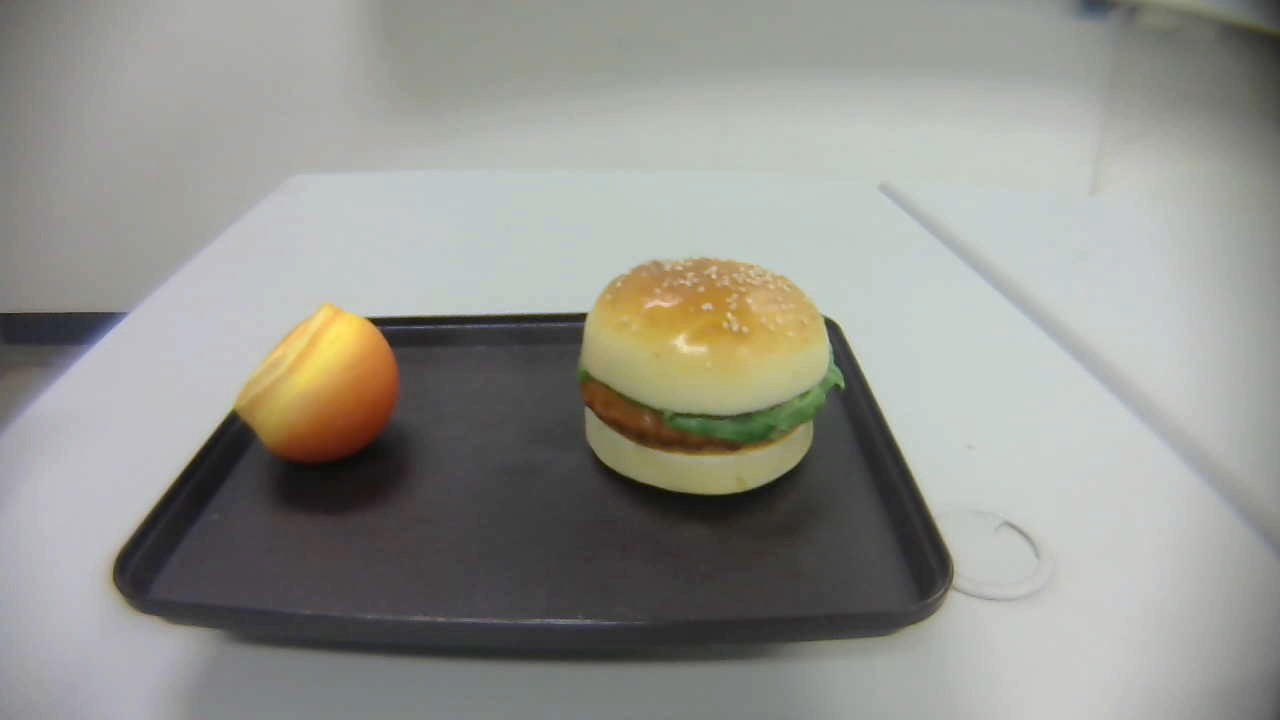bun: (234, 306, 401, 464)
hamburger: (579, 255, 846, 495)
